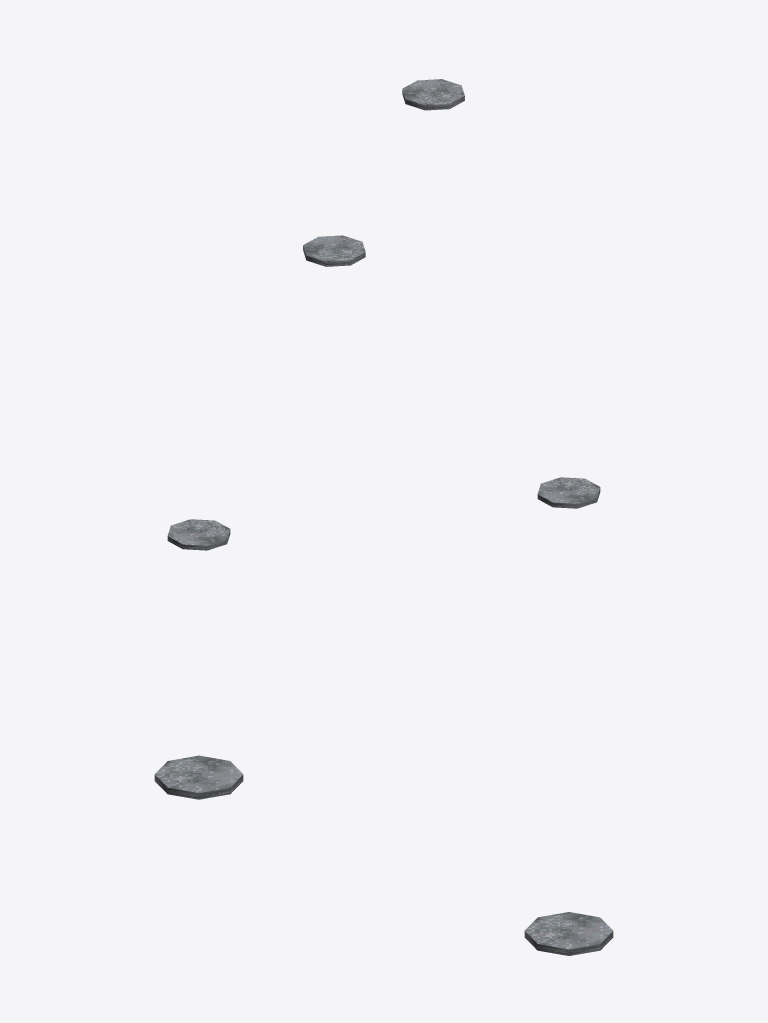
The model's file is ceiling_mall.glb.
3 renders of one model, top to bottom at view 1: azimuth 30°, elevation 25°; view 2: azimuth 150°, elevation 25°; view 3: azimuth 270°, elevation 25°, orthographic. The views are drawn at different scales.
Parts seen in each view (by area): view 1: ceiling_mall; view 2: ceiling_mall; view 3: ceiling_mall.
Boxes of the visible parts, left/top/right/bottom form: ceiling_mall: left=303, top=79, right=464, bottom=266; ceiling_mall: left=167, top=477, right=600, bottom=550; ceiling_mall: left=154, top=755, right=613, bottom=955.
Size of the model in its own units: 2 by 0.021 by 2.
Materials: 1 (1 with a texture image).
